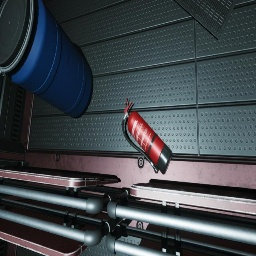FireExtinguisher ]: (122, 97, 172, 175)
